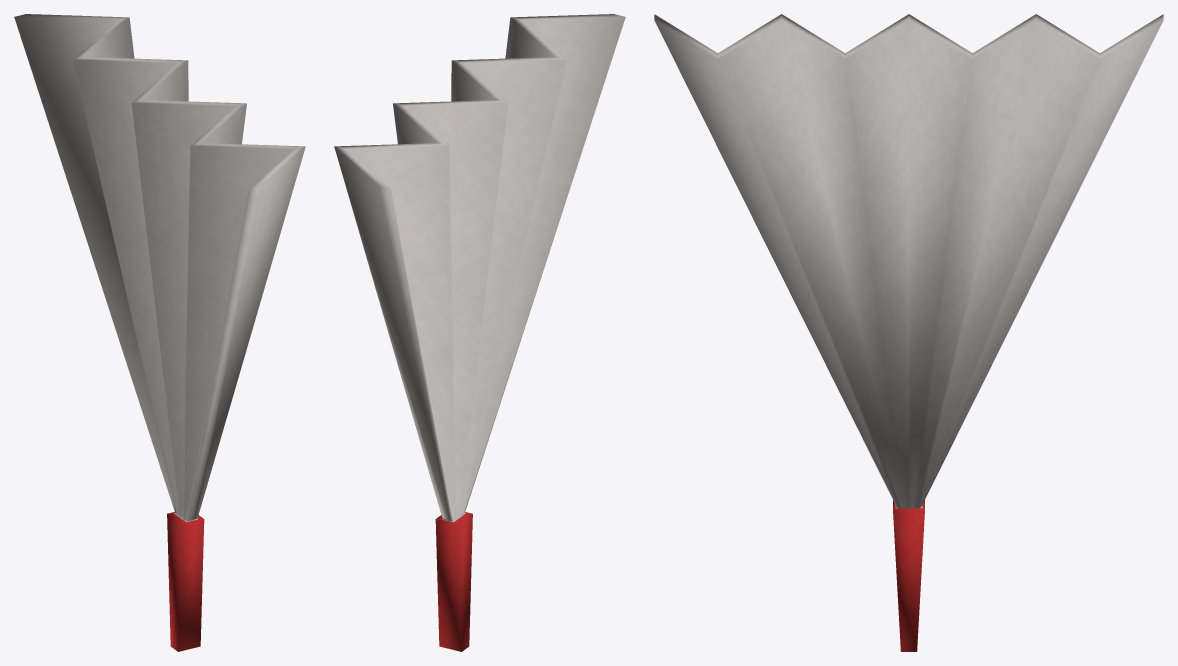
File: fan.glb
3 views of the same model, side by side, from view 1: azimuth 30°, elevation 25°; view 2: azimuth 150°, elevation 25°; view 3: azimuth 270°, elevation 25° (orthographic). The views are drawn at different scales.
Visible parts, largest first — view 1: mesh; view 2: mesh; view 3: mesh.
Part boxes in pixels (left/top/right/bottom): mesh: left=14, top=14, right=305, bottom=651; mesh: left=334, top=14, right=625, bottom=651; mesh: left=654, top=14, right=1163, bottom=651.
Bounding box in the file's own units: 0.4232 × 2.61 × 2.
Materials: 1 (1 with a texture image).
